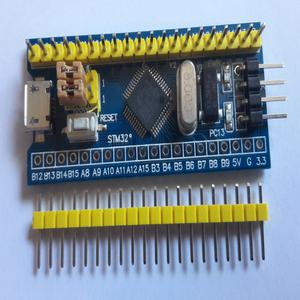duino: (20, 14, 269, 186)
